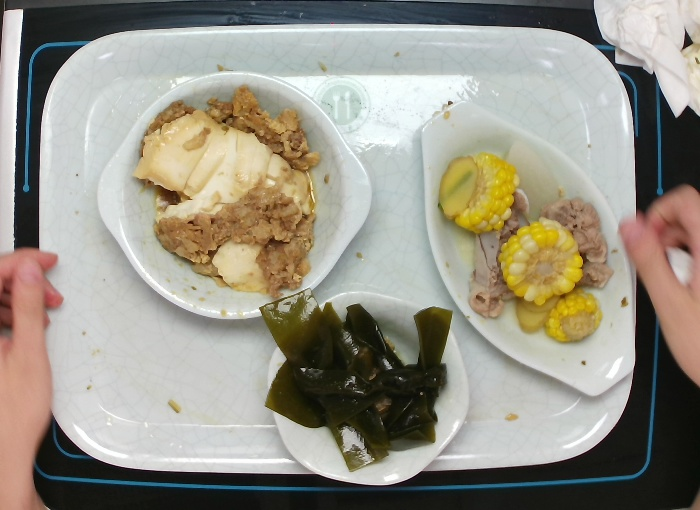JYsf-Shuang_Er_Wan: (94, 69, 373, 324)
JYsf-Yu_Pan: (418, 100, 639, 399)
WCQzf-Hua_Duo_Wan: (264, 288, 473, 489)
